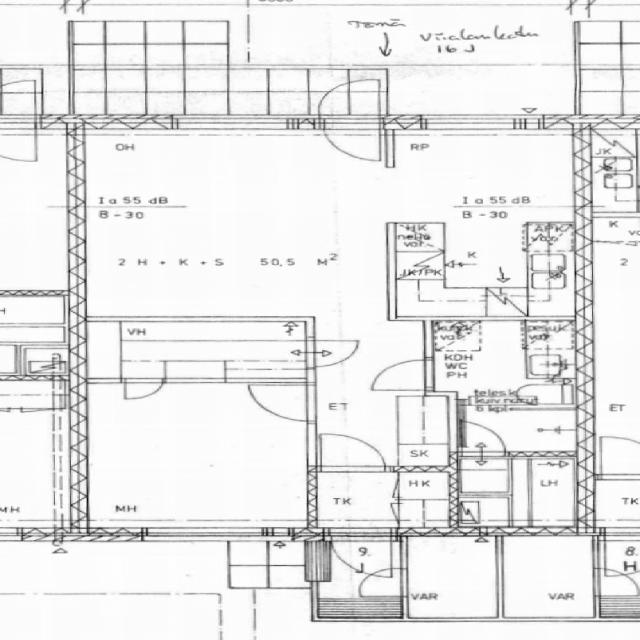door: (318, 79, 379, 130), (318, 114, 379, 164), (328, 528, 390, 577), (320, 429, 384, 472), (245, 384, 314, 420), (374, 359, 432, 388), (352, 568, 407, 595), (460, 426, 504, 457), (306, 340, 356, 365), (124, 378, 161, 404)
